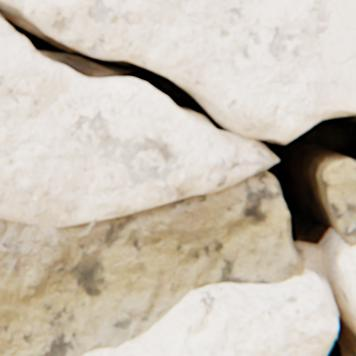broken_brick: (0, 19, 273, 227), (2, 0, 355, 141), (82, 268, 336, 355), (337, 244, 355, 293)
crack: (0, 0, 355, 355)
